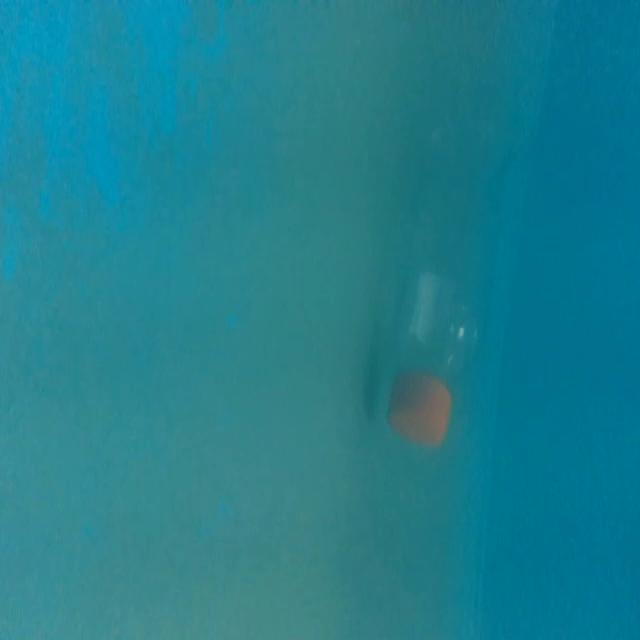plastic bottle: (384, 116, 504, 457)
